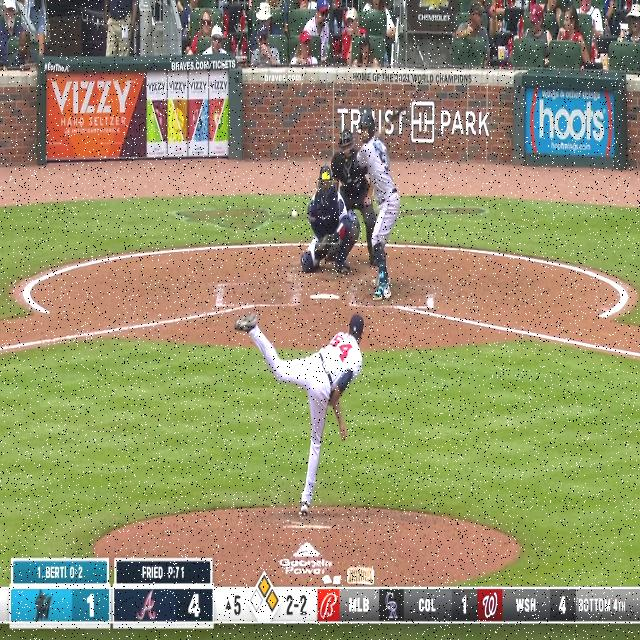baseball: (292, 209, 297, 219)
